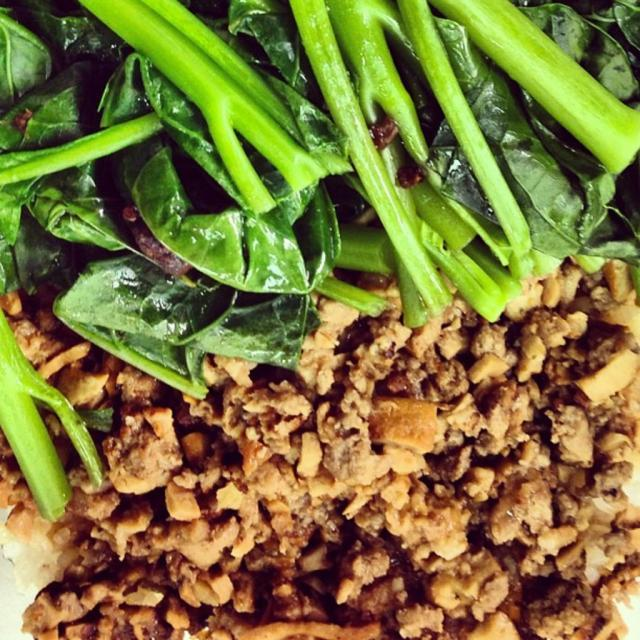Salad: (0, 2, 640, 631)
